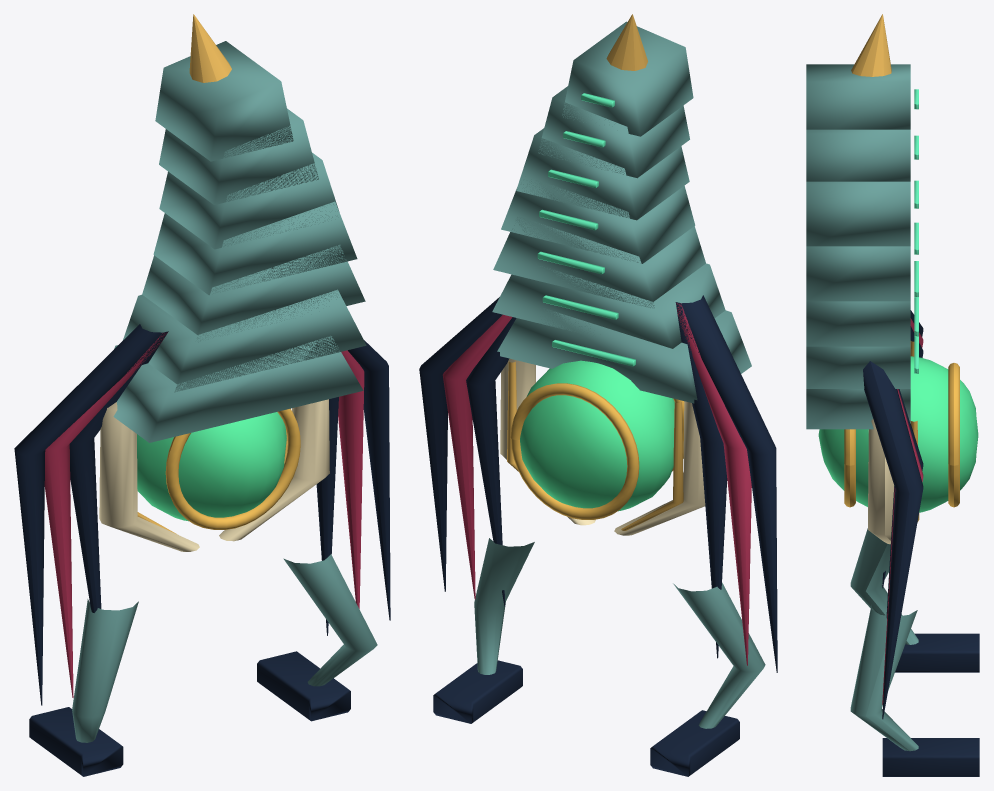
Rendered from boss_5.glb.
The picture shows the model from 3 angles, left to right: view 1: azimuth 30°, elevation 25°; view 2: azimuth 150°, elevation 25°; view 3: azimuth 270°, elevation 25°; orthographic projection. The views are drawn at different scales.
Parts seen in each view (by area): view 1: SunkMasonry (×7), KelpRibbon (×6), GlassCore, LongShin (×2), OpenRib (×2), Hoof (×2), GiltOrbRim, BrokenSpire; view 2: SunkMasonry (×7), KelpRibbon (×6), GlassCore, LongShin (×2), Hoof (×2), GiltOrbRim, OpenRib (×2), GiltRib (×2), BrokenSpire, SpireSlit (×2); view 3: SunkMasonry (×7), GlassCore, KelpRibbon (×3), Hoof (×2), LongShin (×2), GiltOrbRim (×2), OpenRib, BrokenSpire.
Part boxes in pixels (x1,y1,x2,y2): SunkMasonry (×7): [113, 41, 366, 442]; KelpRibbon (×6): [14, 324, 390, 705]; GlassCore: [137, 412, 286, 521]; LongShin (×2): [72, 554, 377, 742]; OpenRib (×2): [99, 399, 329, 551]; Hoof (×2): [29, 651, 350, 776]; GiltOrbRim: [165, 409, 300, 529]; BrokenSpire: [189, 14, 231, 82]; SunkMasonry (×7): [492, 21, 751, 403]; KelpRibbon (×6): [419, 295, 777, 672]; GlassCore: [520, 360, 674, 511]; LongShin (×2): [474, 538, 765, 728]; Hoof (×2): [433, 660, 739, 776]; GiltOrbRim: [510, 383, 639, 519]; OpenRib (×2): [500, 358, 705, 535]; GiltRib (×2): [507, 361, 683, 530]; BrokenSpire: [606, 14, 647, 70]; SpireSlit (×2): [542, 295, 635, 366]; SunkMasonry (×7): [806, 64, 910, 429]; GlassCore: [818, 356, 978, 512]; KelpRibbon (×3): [863, 361, 923, 719]; Hoof (×2): [882, 633, 979, 776]; LongShin (×2): [850, 528, 918, 751]; GiltOrbRim (×2): [844, 363, 959, 507]; OpenRib: [868, 419, 894, 544]; BrokenSpire: [851, 14, 891, 76].
Size of the model in its own units: 1.58 by 3 by 0.681.
